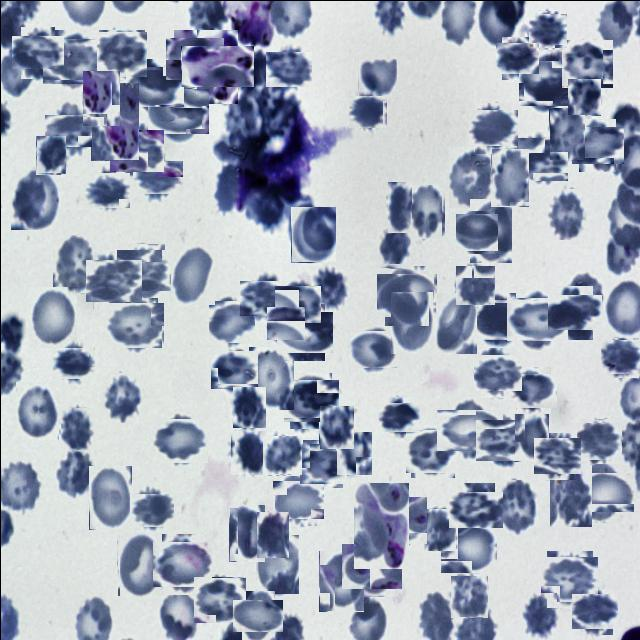red blood cell: (10, 166, 60, 228), (367, 492, 423, 547), (116, 531, 161, 598), (448, 144, 495, 207), (28, 286, 76, 347), (151, 84, 205, 138), (442, 403, 496, 457), (248, 346, 293, 409), (441, 521, 494, 574), (155, 537, 208, 590), (46, 34, 100, 86), (510, 292, 562, 345), (108, 298, 160, 351), (522, 56, 574, 109), (345, 540, 398, 592), (88, 465, 131, 529), (318, 550, 363, 611), (380, 269, 432, 321), (469, 198, 511, 262), (52, 234, 98, 292), (170, 244, 214, 304), (15, 381, 60, 439), (434, 292, 476, 354), (390, 291, 432, 353), (549, 464, 591, 526), (544, 552, 594, 604), (170, 32, 220, 84), (290, 206, 335, 262), (154, 414, 204, 464), (578, 466, 628, 516), (194, 574, 244, 624), (130, 62, 180, 112), (88, 255, 138, 305), (561, 38, 611, 88), (256, 534, 298, 593), (494, 479, 537, 535), (408, 426, 457, 475), (279, 307, 328, 356), (286, 375, 334, 424), (112, 125, 160, 174), (119, 246, 167, 294), (518, 134, 566, 182), (97, 30, 145, 78), (478, 415, 525, 463), (98, 372, 142, 423), (564, 273, 606, 326), (474, 296, 522, 342), (491, 148, 528, 206), (81, 70, 119, 126), (274, 476, 320, 522), (452, 486, 498, 532), (228, 504, 264, 561), (546, 188, 586, 239), (407, 184, 444, 239), (574, 122, 619, 167), (209, 298, 253, 343), (300, 441, 344, 485), (552, 290, 596, 334), (548, 107, 584, 160), (474, 350, 518, 393), (48, 108, 92, 151), (54, 449, 94, 496), (212, 348, 255, 391), (471, 105, 514, 148), (352, 327, 394, 370), (578, 419, 620, 462), (16, 31, 58, 74), (136, 156, 178, 198), (536, 434, 578, 476), (276, 283, 318, 325), (512, 369, 553, 411), (85, 169, 127, 210), (237, 594, 278, 636), (513, 413, 548, 461), (268, 48, 308, 90), (520, 592, 556, 638), (574, 590, 614, 631), (450, 575, 488, 618), (229, 430, 265, 475), (242, 278, 282, 318), (456, 212, 496, 252), (454, 265, 494, 305), (261, 434, 301, 474), (336, 431, 372, 475), (418, 508, 455, 550), (318, 405, 353, 449), (132, 490, 170, 530), (357, 58, 396, 96), (256, 511, 288, 557), (54, 344, 92, 382), (602, 338, 640, 376), (498, 38, 536, 76), (60, 407, 94, 449), (376, 228, 410, 268), (232, 386, 265, 427), (314, 268, 346, 310), (529, 11, 565, 48), (267, 305, 303, 341), (350, 93, 386, 129), (566, 78, 600, 115), (387, 181, 411, 232), (382, 398, 416, 434), (35, 135, 65, 173)
trophozoite: (353, 482, 408, 568), (90, 82, 138, 160), (188, 36, 245, 94)
